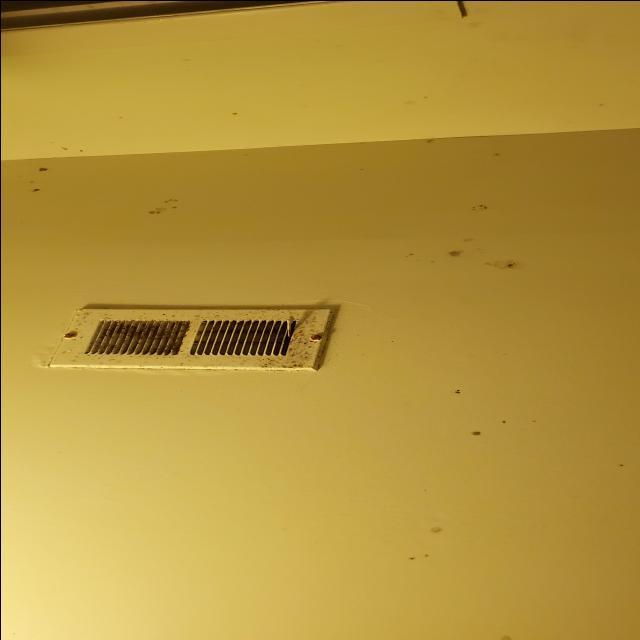Crack: (143, 204, 183, 217), (472, 202, 492, 213), (452, 246, 468, 259), (504, 264, 518, 272), (29, 186, 42, 194), (471, 428, 481, 438), (432, 527, 447, 533), (411, 555, 417, 570), (426, 548, 434, 559), (500, 418, 510, 426), (40, 167, 50, 174), (456, 391, 462, 396)
